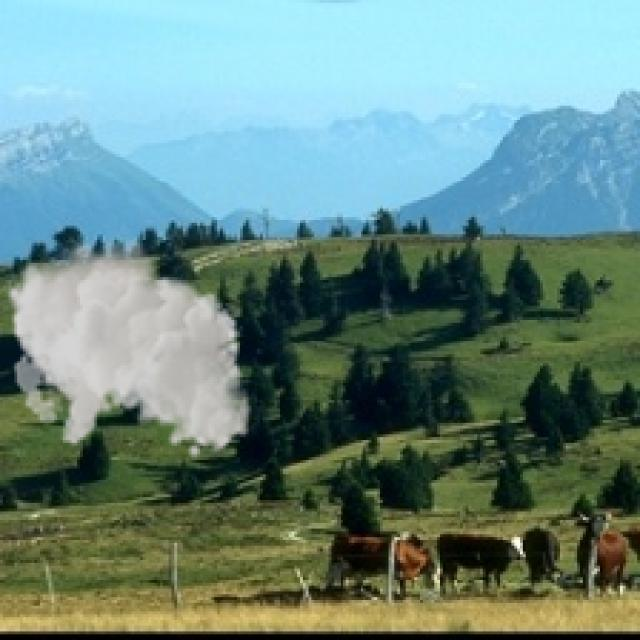Smoke: (5, 232, 252, 459)
